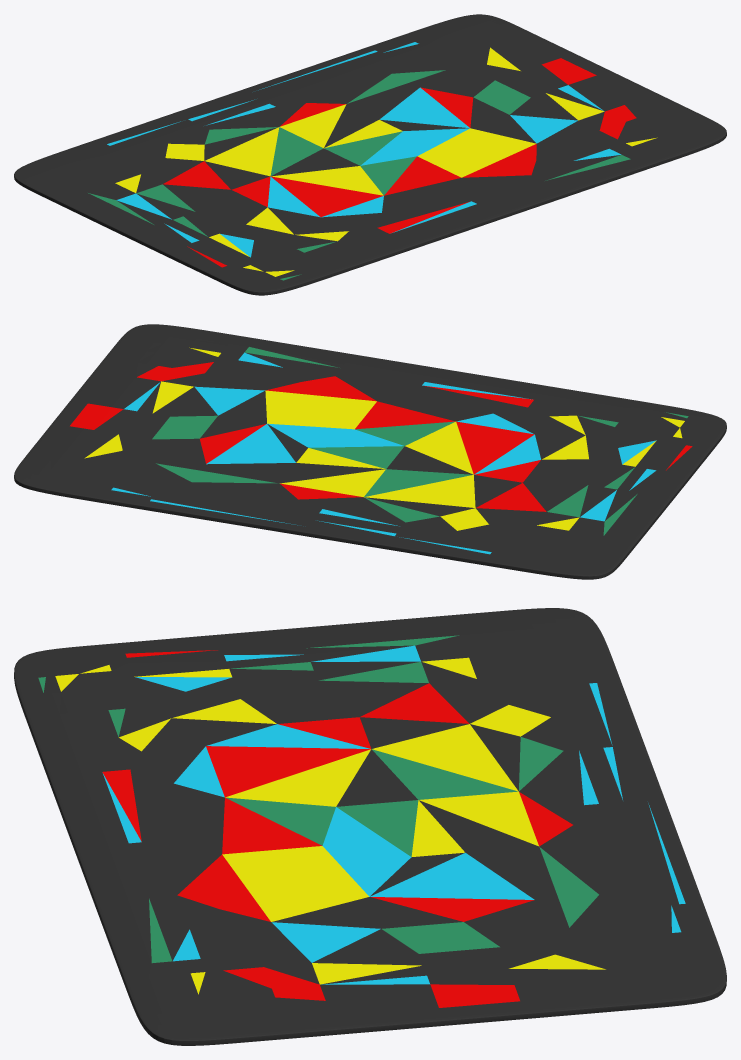
Rendered from Modern_rug_fixed.glb.
3 views of the same model, one above another, from view 1: azimuth 30°, elevation 25°; view 2: azimuth 150°, elevation 25°; view 3: azimuth 270°, elevation 25° (orthographic). The views are drawn at different scales.
Visible parts, largest first — view 1: Geometry; view 2: Geometry; view 3: Geometry.
Boxes of the visible parts, bbox=[...] form: Geometry: bbox=[14, 14, 726, 295]; Geometry: bbox=[14, 324, 726, 579]; Geometry: bbox=[14, 608, 726, 1045].
Size of the model in its own units: 2.3 by 0.02 by 1.6.
